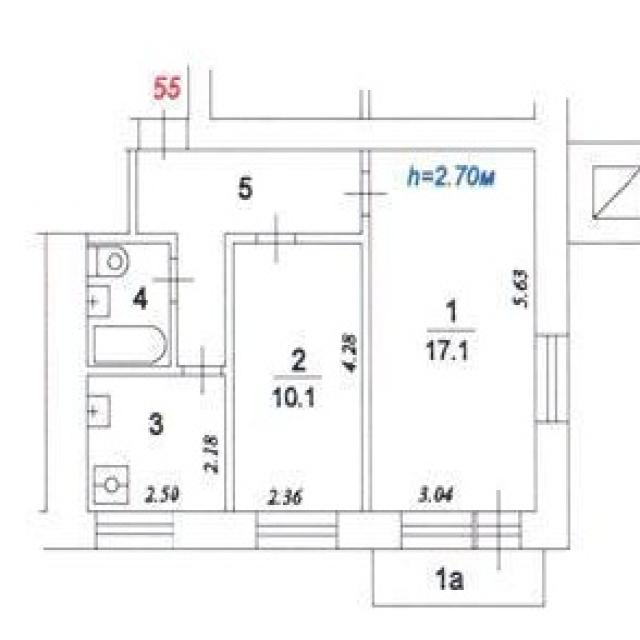Bathrooms: (89, 247, 169, 364)
Corridors: (140, 153, 358, 363), (375, 551, 542, 604)
Doors: (477, 488, 522, 571), (137, 107, 190, 162), (256, 204, 296, 264), (340, 171, 389, 216), (149, 258, 196, 303), (181, 345, 222, 395)
LBwalls: (187, 69, 571, 335), (44, 232, 96, 551), (522, 422, 571, 550), (175, 510, 254, 551), (337, 510, 400, 549), (122, 116, 137, 151)
Offices: (372, 153, 533, 509), (237, 245, 360, 510), (89, 379, 223, 509)
Walls: (295, 216, 373, 511), (218, 231, 257, 512), (88, 151, 179, 258), (87, 302, 183, 379), (358, 88, 372, 118), (359, 149, 370, 171)
Windows: (255, 509, 337, 551), (533, 334, 571, 422), (96, 511, 175, 551), (401, 509, 474, 549)
